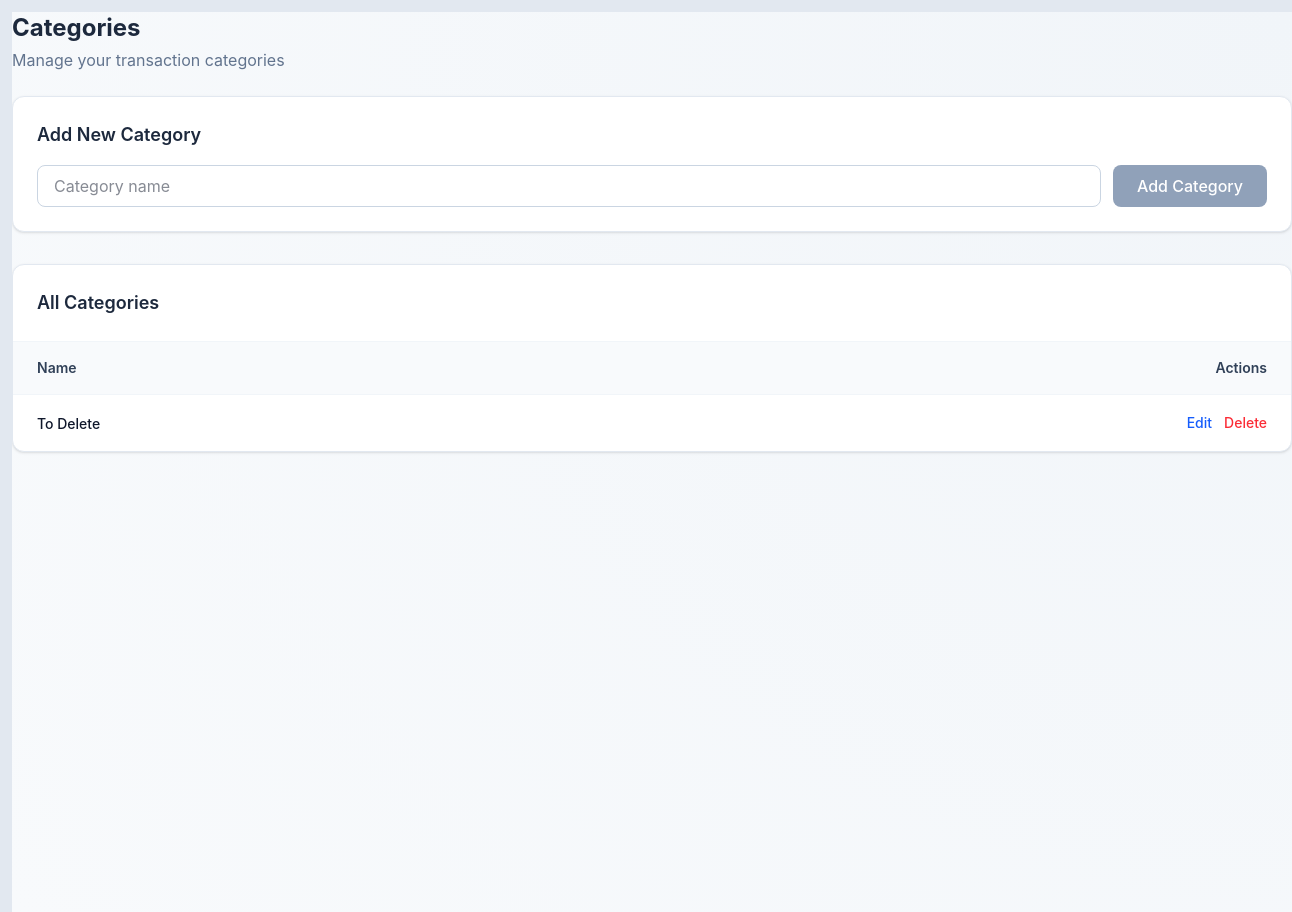
Test: Categories Component › deletes a category when confirmed
Note: Click Delete to show inline confirmation
Click the button "Delete" at (1246, 423), box [1224,413,1267,433]
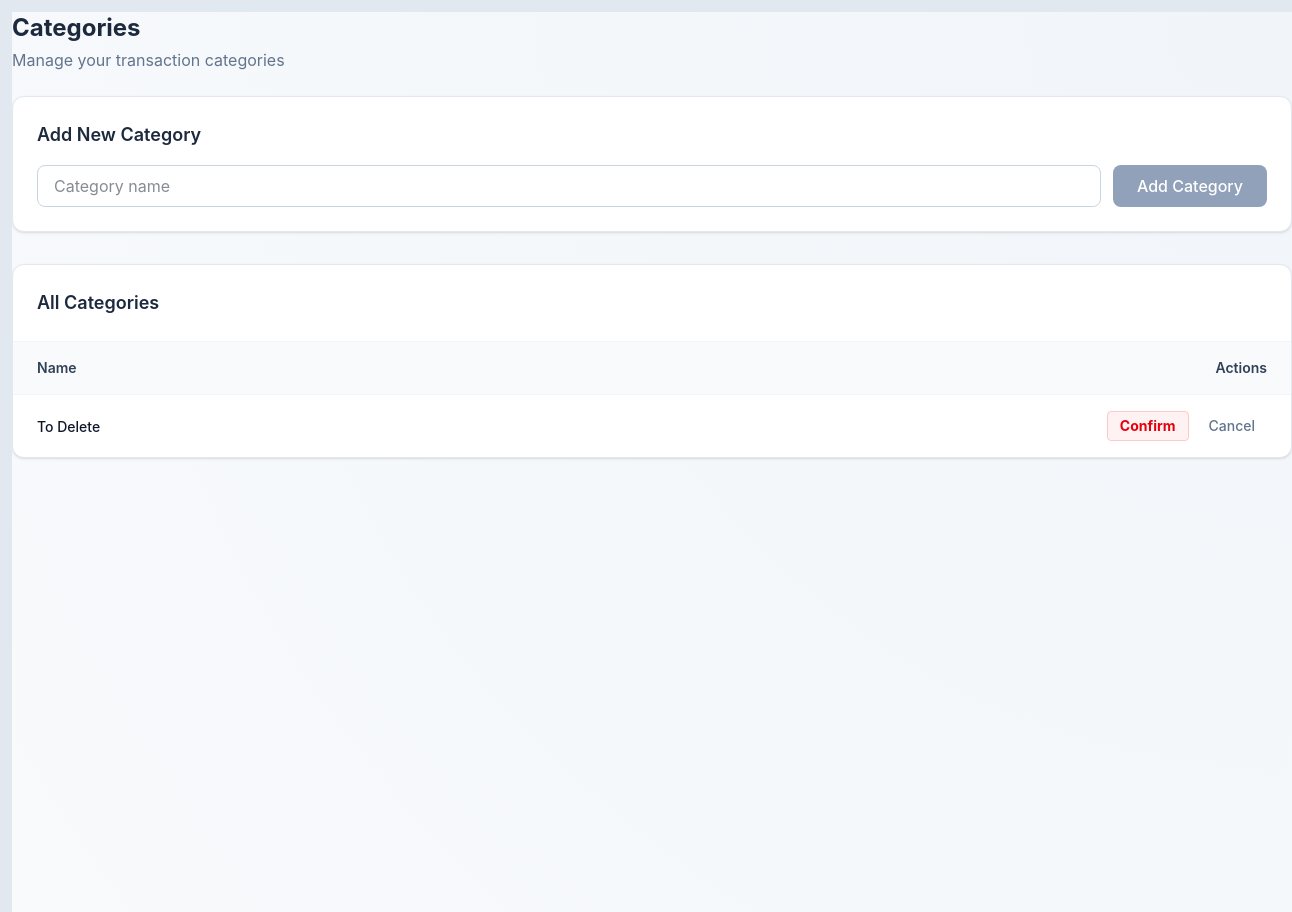
Click the button "Confirm" at (1148, 426), box [1107,411,1188,441]
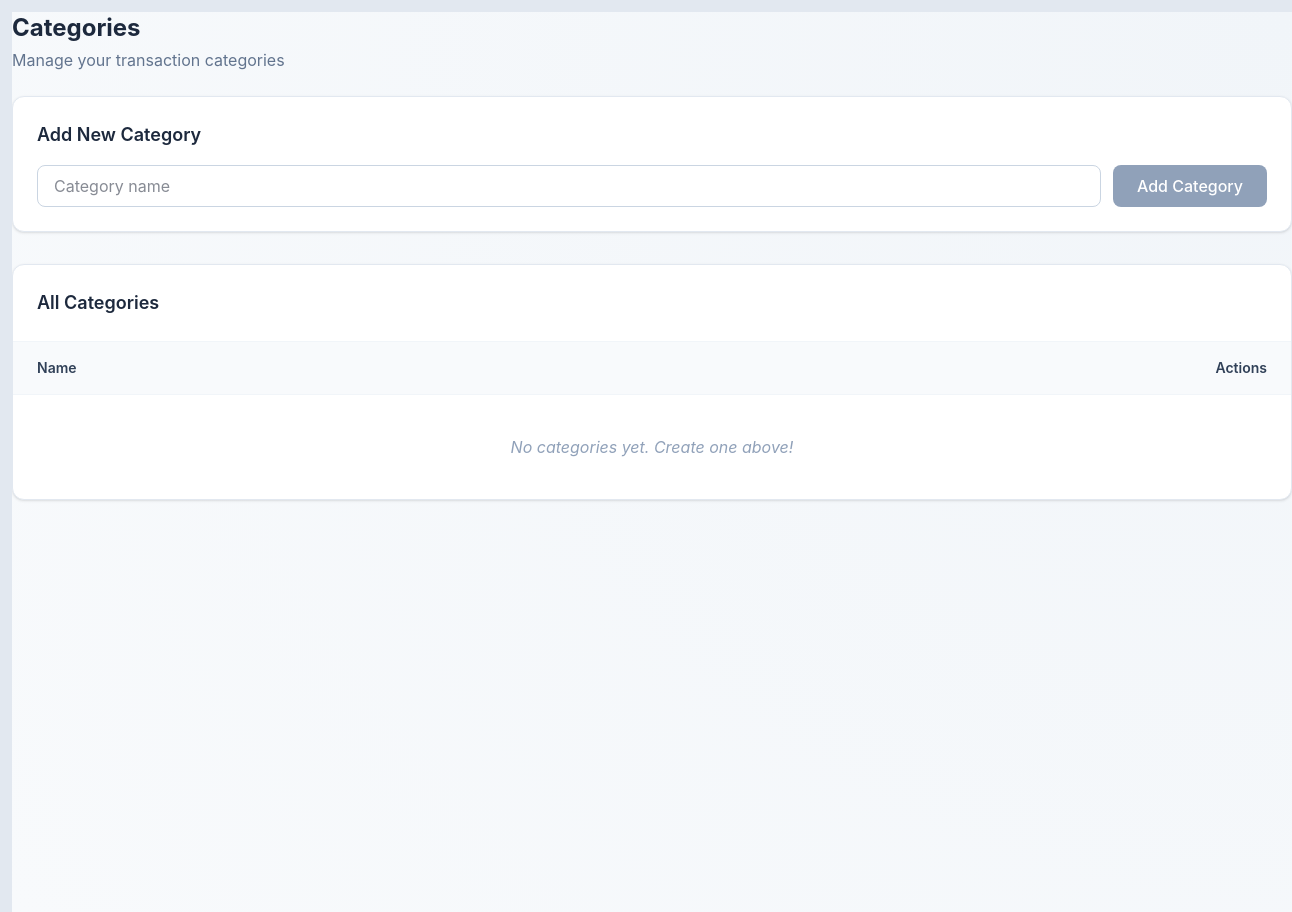
Result: the text "No categories yet. Create one above!" is shown at [13,394,1291,499]
